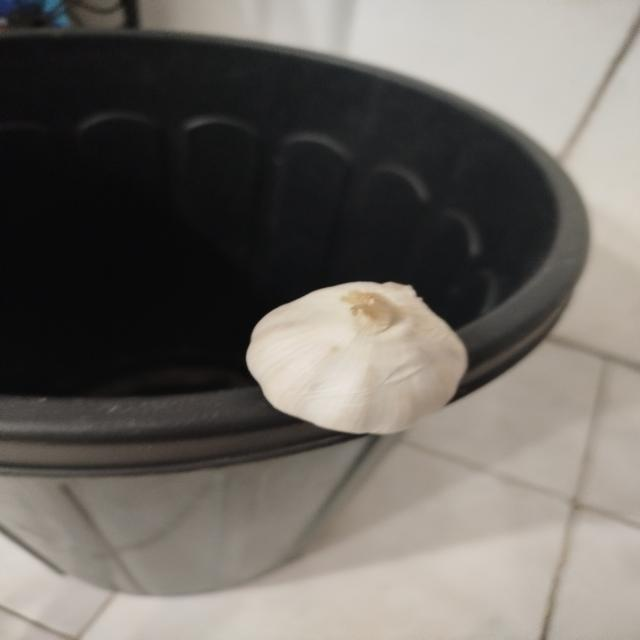garlic: (245, 280, 469, 436)
